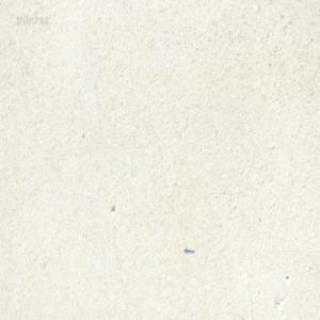Nailtrack_idkeyframe: (182, 245, 194, 252)
